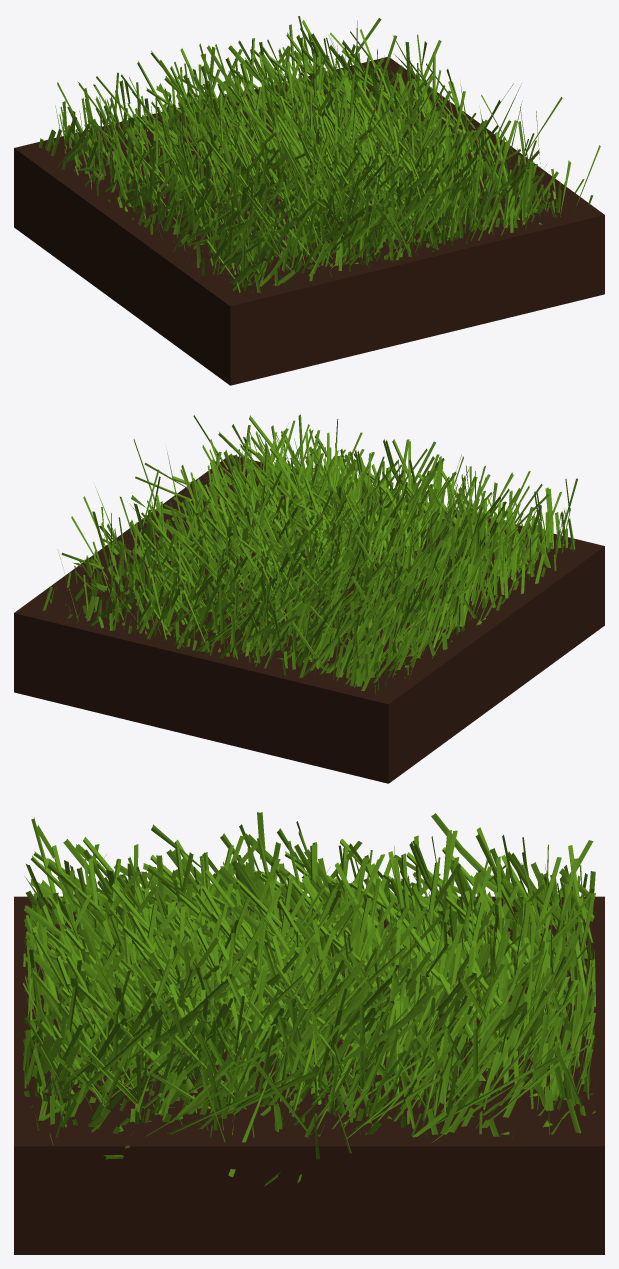
Rendered from ChaoGramaaaaa.fbx.
3 views of the same model, one above another, from view 1: azimuth 30°, elevation 25°; view 2: azimuth 150°, elevation 25°; view 3: azimuth 270°, elevation 25° (orthographic). The views are drawn at different scales.
Visible parts, largest first — view 1: imagetostl_mesh0, Cube.001; view 2: imagetostl_mesh0, Cube.001; view 3: imagetostl_mesh0, Cube.001.
Part boxes in pixels (box(x1,y1,x2,y2)): imagetostl_mesh0: box(39, 16, 600, 293); Cube.001: box(14, 57, 604, 385); imagetostl_mesh0: box(42, 414, 577, 694); Cube.001: box(14, 455, 604, 783); imagetostl_mesh0: box(23, 812, 595, 1186); Cube.001: box(14, 896, 604, 1254).
Size of the model in its own units: 423 by 148 by 393.
